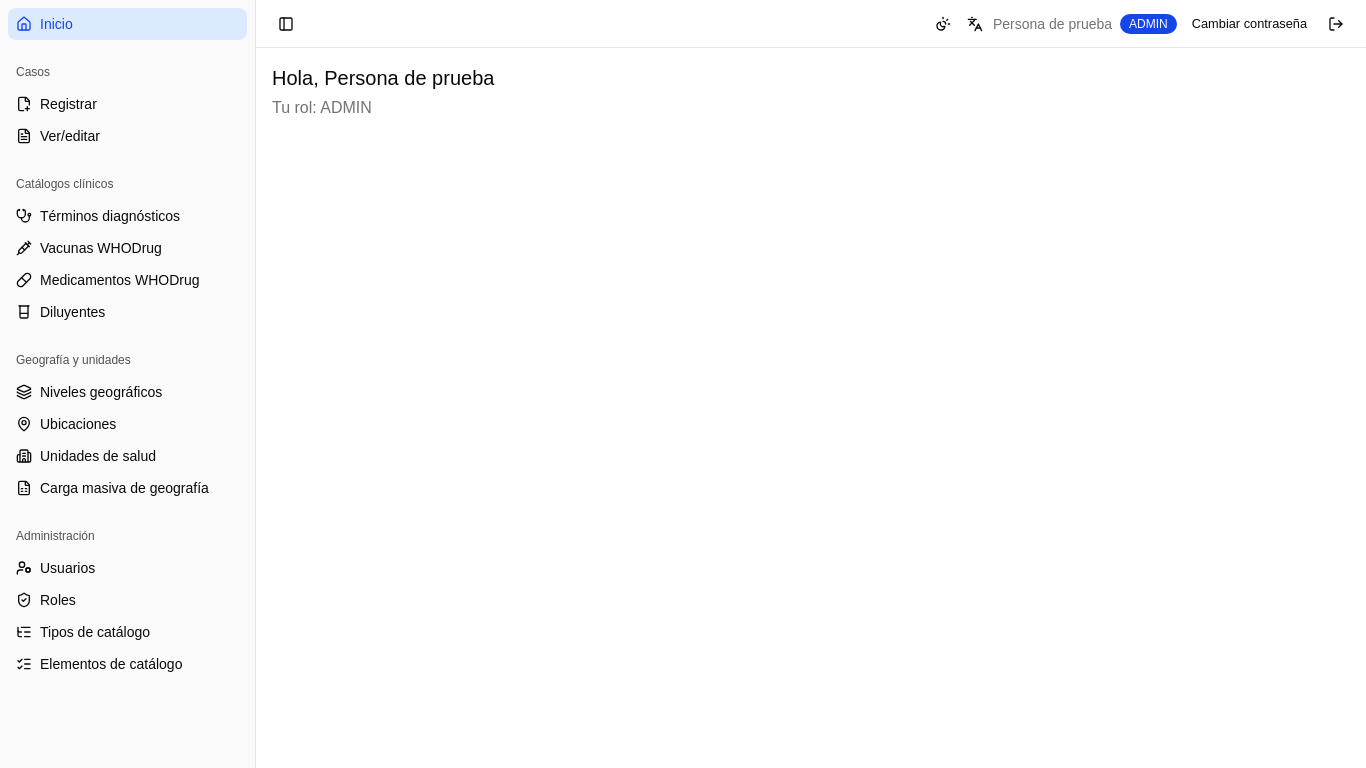
it: Ruta /geo-level-types — navegación desde el sidebar › el enlace del sidebar navega a la pantalla de niveles geográficos
The image size is (1366, 768).
Step 1. Click the link "Niveles geográficos" → point(89, 392), box [16,384,162,400]
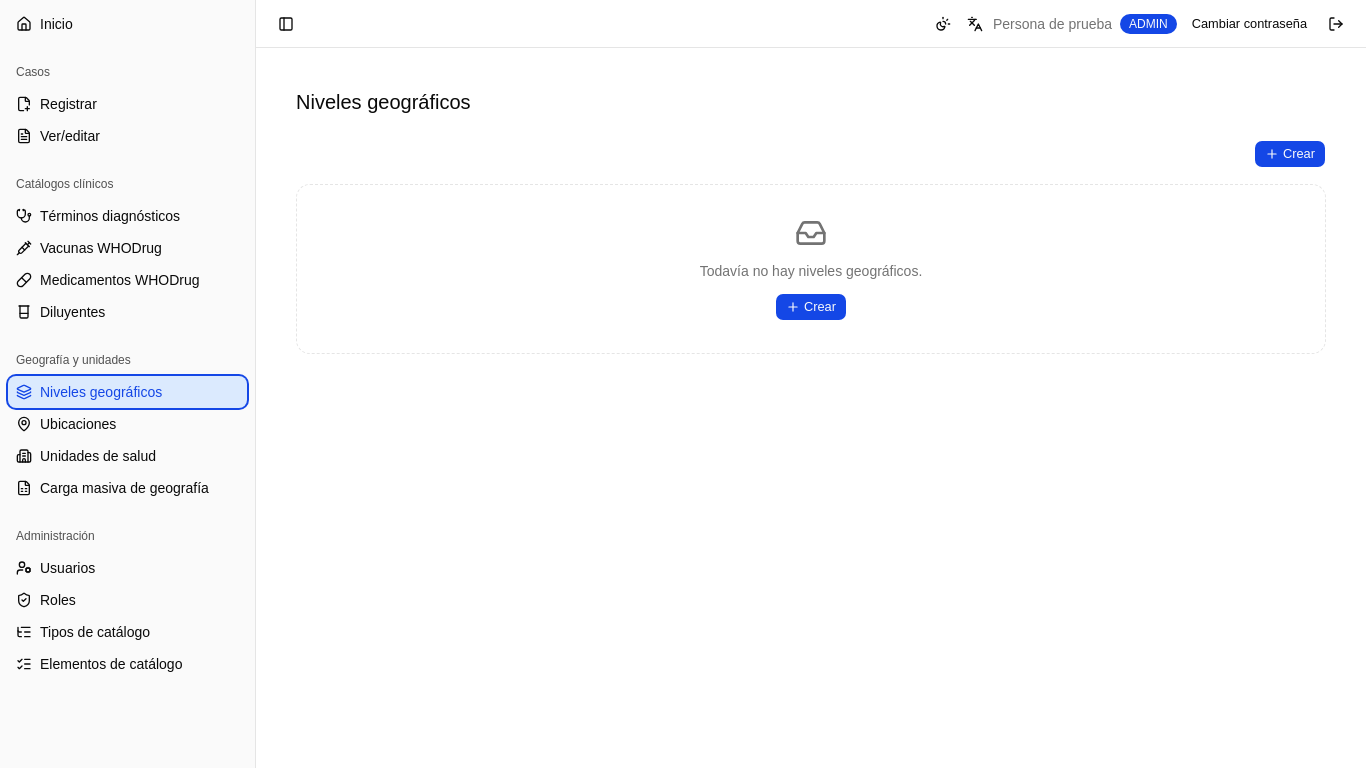
Expected: the heading "Niveles geográficos" is shown, [296,91,470,113]
